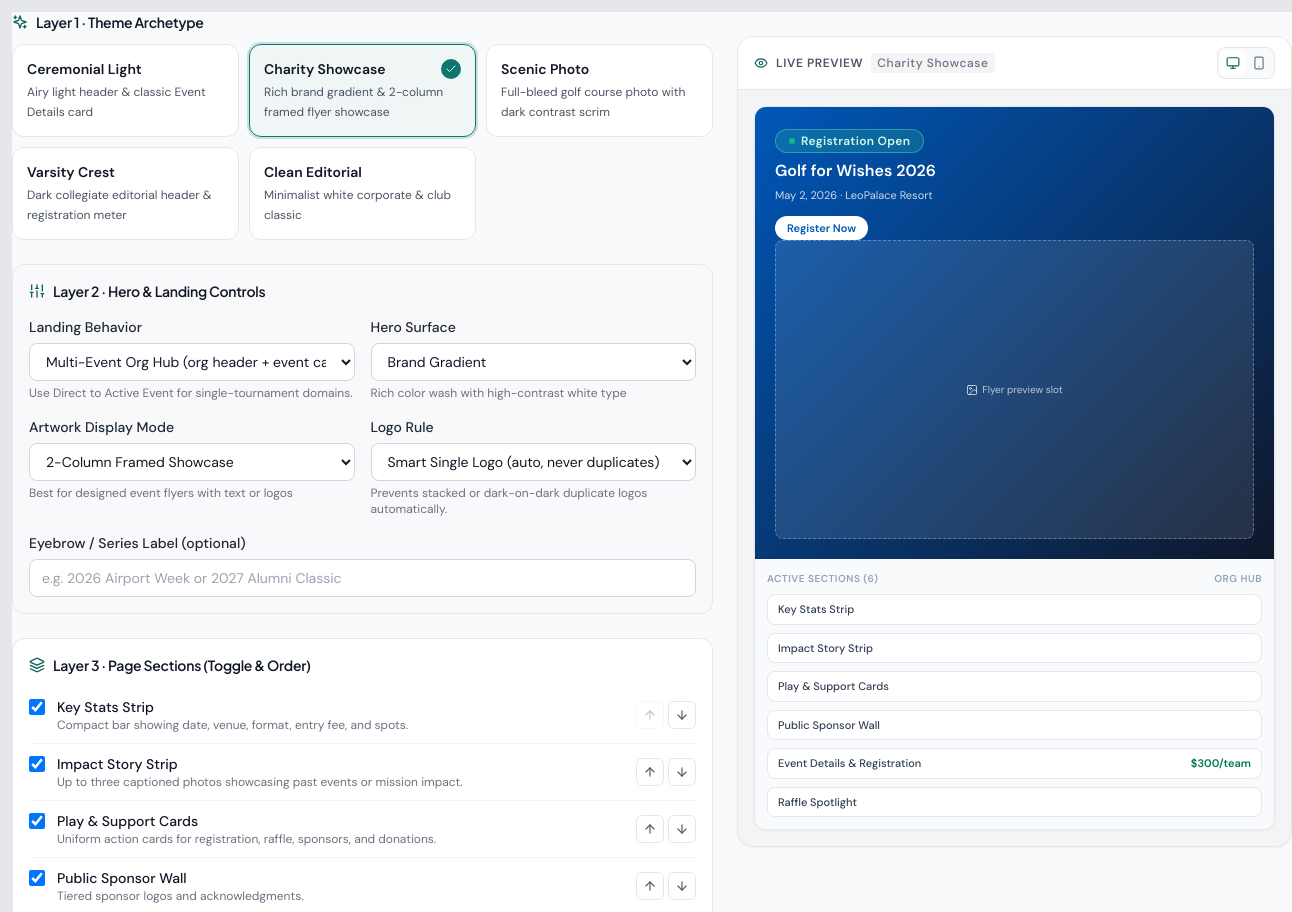
Test case: HomepageStudio › toggles desktop and mobile live preview widths
Click the button named "Mobile preview" at {"x": 1259, "y": 63}, box [1246, 50, 1272, 76]
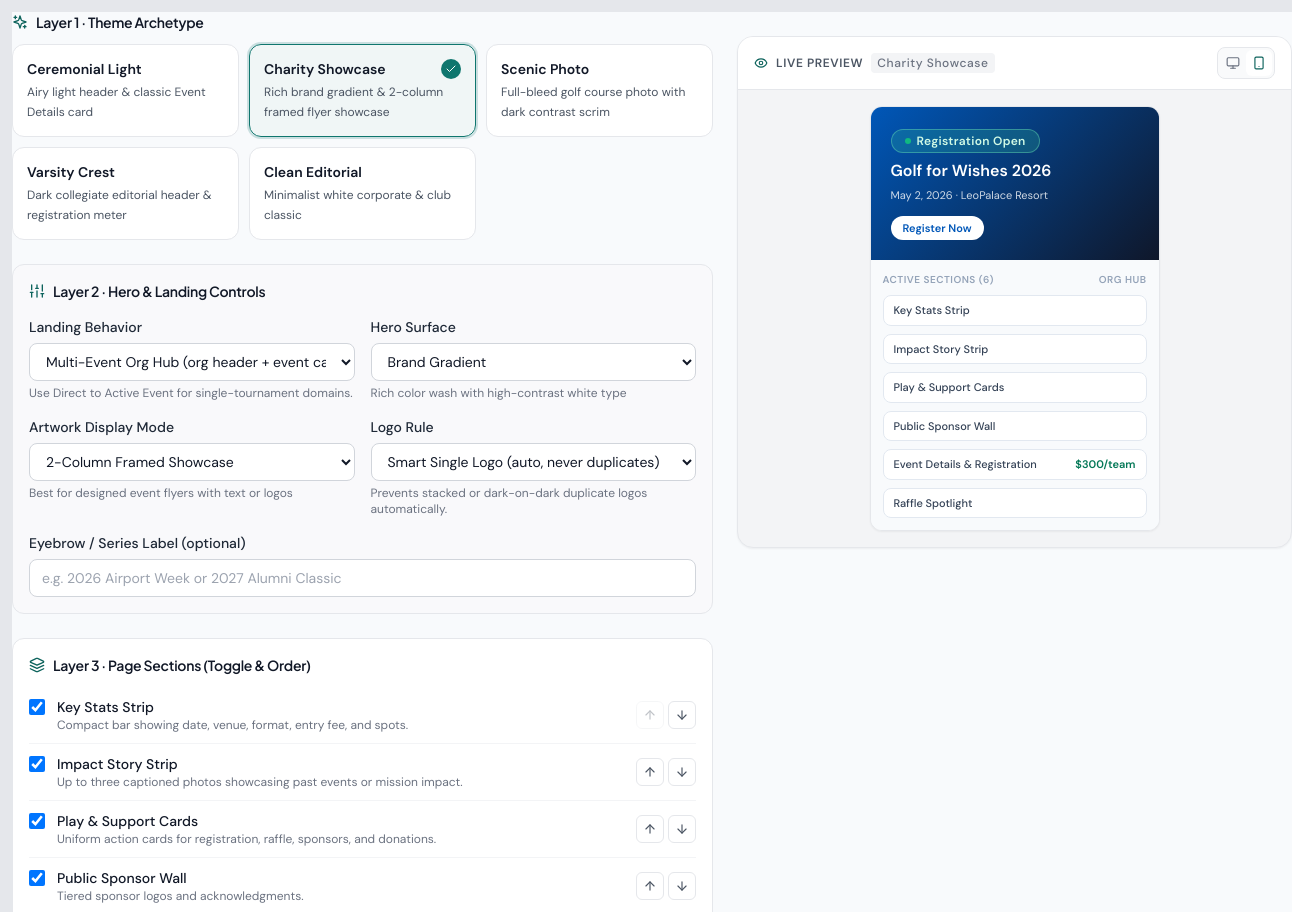
Now the element with test id "homepage-studio-preview" has attribute data-preview-device="mobile", box [870, 106, 1160, 531]
